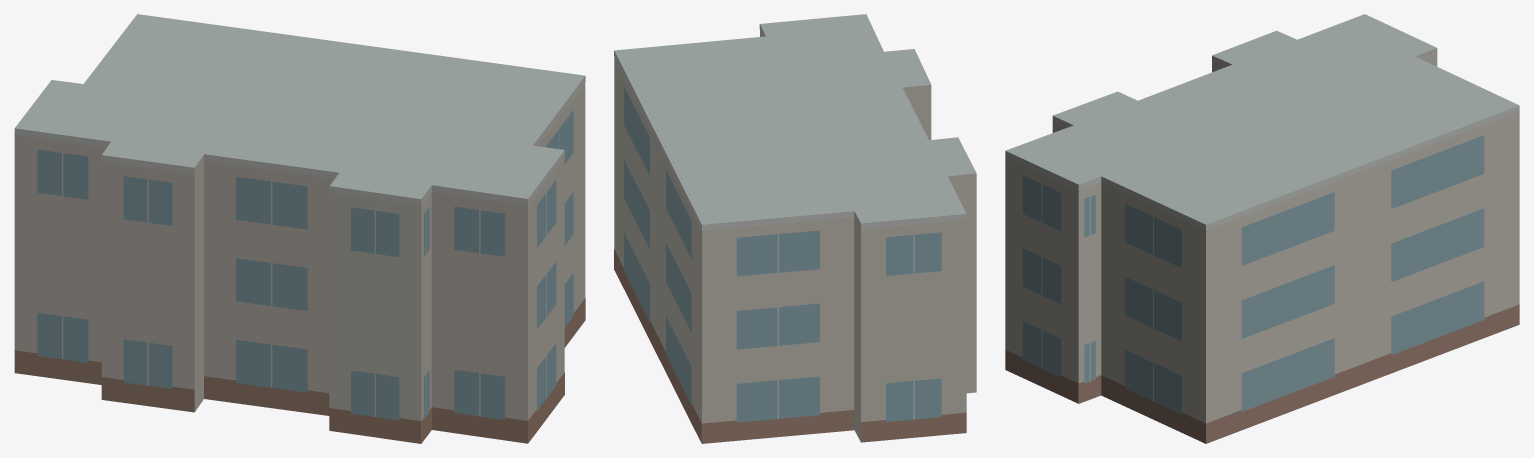
The model's file is survey-upis-32474361.glb.
3 views of the same model, side by side, from view 1: azimuth 30°, elevation 25°; view 2: azimuth 150°, elevation 25°; view 3: azimuth 270°, elevation 25° (orthographic). The views are drawn at different scales.
Parts seen in each view (by area): view 1: survey-upis-32474361.tmp; view 2: survey-upis-32474361.tmp; view 3: survey-upis-32474361.tmp.
Part boxes in pixels (left/top/right/bottom): survey-upis-32474361.tmp: left=14, top=14, right=585, bottom=443; survey-upis-32474361.tmp: left=614, top=14, right=976, bottom=443; survey-upis-32474361.tmp: left=1005, top=14, right=1519, bottom=443.
Size of the model in its own units: 18.88 by 9.15 by 19.47.
